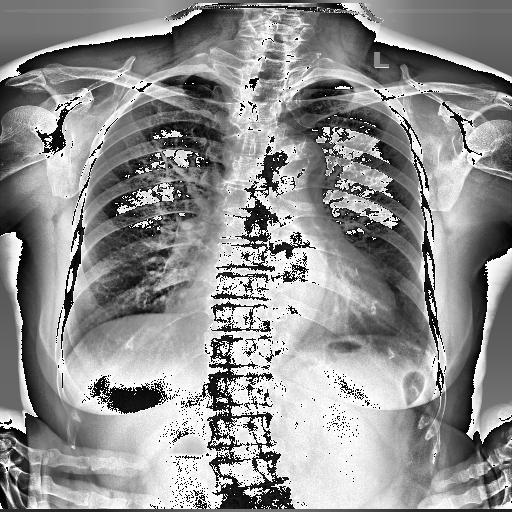0- Aortic enlargement: (262, 126, 326, 200), (266, 138, 328, 192), (270, 136, 324, 196)
3- Cardiomegaly: (183, 266, 400, 333), (184, 270, 395, 332), (182, 281, 398, 332)
